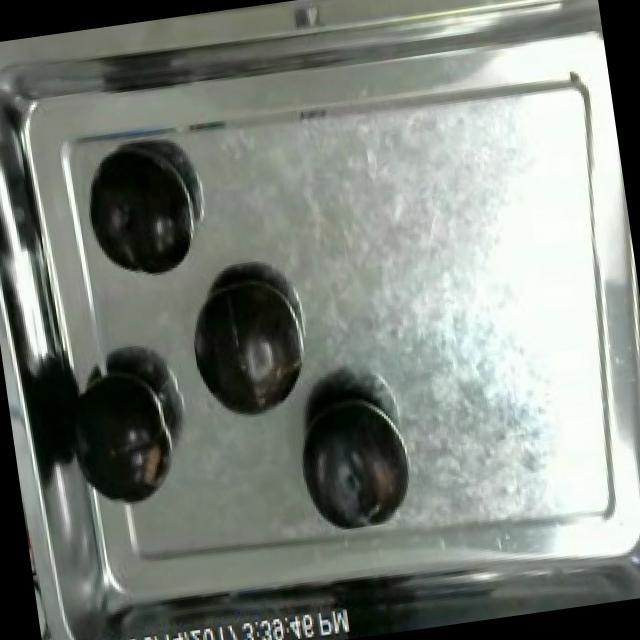Fruit: (179, 262, 311, 429), (56, 354, 188, 517), (288, 380, 417, 540), (78, 141, 204, 289)
